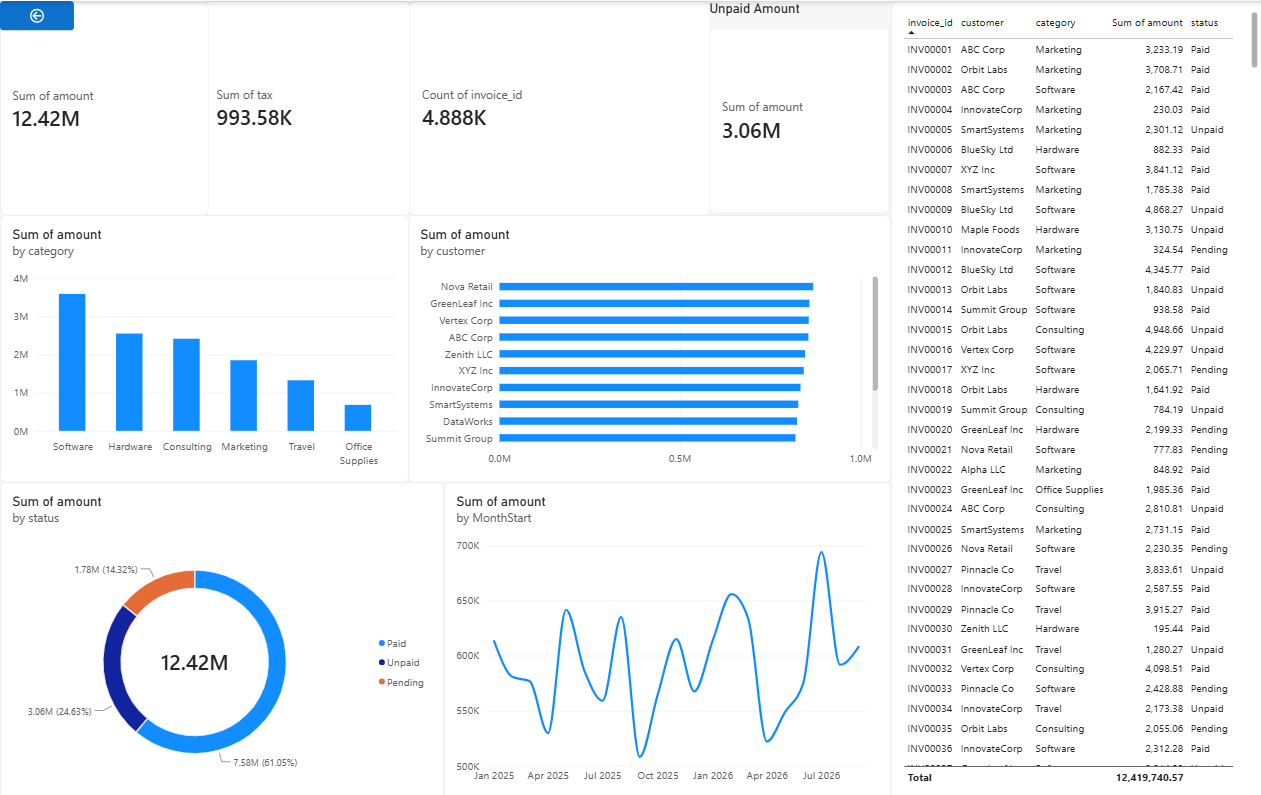

Layout of this report page (visuals, bound fields, positions):
{"tool":"powerbi","page":{"name":"Page 1","canvas":[1920,1080],"ordinal":0},"visuals":[{"type":"cardVisual","fields":{"Data":["Sum(invoices.tax)"]},"box":[276.1,0,279.4,290.7],"z":0},{"type":"clusteredColumnChart","fields":{"Category":["invoices.category"],"Y":["Sum(invoices.amount)"]},"box":[0,290.6,552.8,360.4],"z":1},{"type":"cardVisual","fields":{"Data":["Sum(invoices.amount)"]},"box":[0,1.9,282.6,288.6],"z":2},{"type":"cardVisual","fields":{"Data":["CountNonNull(invoices.invoice_id)"]},"box":[552.8,0,407.5,290.6],"z":3},{"type":"cardVisual","title":"Unpaid Amount","fields":{"Data":["Sum(invoices.amount)"]},"box":[960,0,243.4,288.7],"z":4},{"type":"donutChart","fields":{"Category":["invoices.status"],"Y":["Sum(invoices.amount)"]},"box":[0,650.9,600,428.3],"z":5},{"type":"clusteredBarChart","fields":{"Category":["invoices.customer"],"Y":["Sum(invoices.amount)"]},"box":[550.9,290.6,652.8,360.4],"z":6},{"type":"lineChart","fields":{"Category":["invoices.MonthStart"],"Y":["Sum(invoices.amount)"]},"box":[600,650.9,603.8,428.3],"z":7},{"type":"tableEx","fields":{"Values":["invoices.invoice_id","invoices.customer","invoices.category","Sum(invoices.amount)","invoices.status"]},"box":[1203.8,0,513.2,1079.2],"z":8},{"type":"actionButton","box":[0,0,100,40],"z":9}]}

Visuals, with their boxes on the page's 1920x1080 design canvas (x1, y1, x2, y2). These are canvas units, not pixel positions in the 1261x795 screenshot, which may show the page scaled, cropped or inside an application window:
cardVisual - Sum(invoices.tax): 276:0:556:291
clusteredColumnChart - invoices.category x Sum(invoices.amount): 0:291:553:651
cardVisual - Sum(invoices.amount): 0:2:283:290
cardVisual - CountNonNull(invoices.invoice_id): 553:0:960:291
"Unpaid Amount" cardVisual: 960:0:1203:289
donutChart - invoices.status x Sum(invoices.amount): 0:651:600:1079
clusteredBarChart - invoices.customer x Sum(invoices.amount): 551:291:1204:651
lineChart - invoices.MonthStart x Sum(invoices.amount): 600:651:1204:1079
tableEx - invoices.invoice_id x invoices.customer: 1204:0:1717:1079
actionButton: 0:0:100:40
